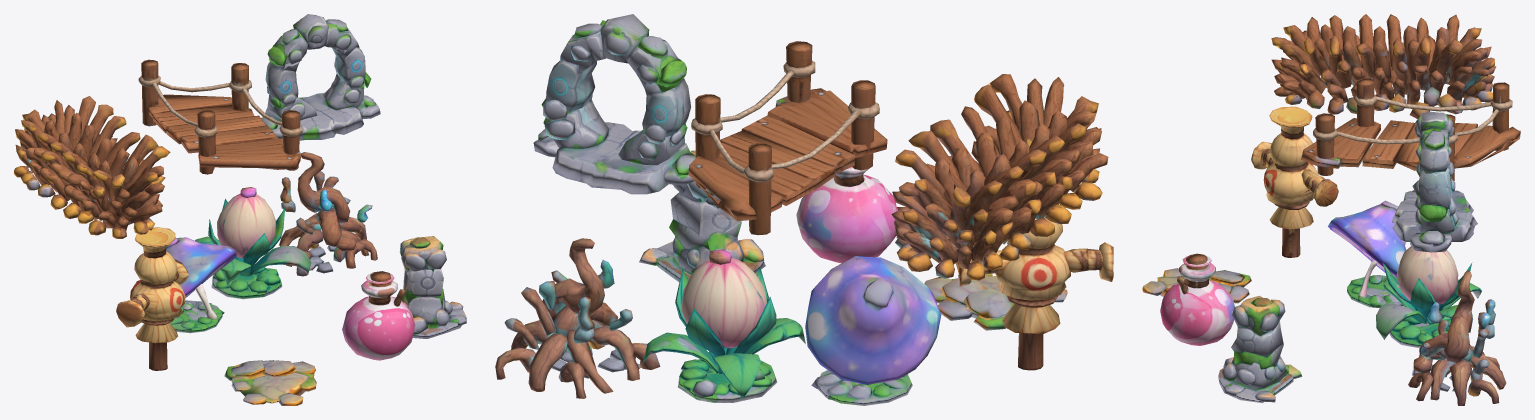
Rendered from magia.glb.
3 renders of one model, left to right at view 1: azimuth 30°, elevation 25°; view 2: azimuth 150°, elevation 25°; view 3: azimuth 270°, elevation 25°, orthographic. The views are drawn at different scales.
Parts seen in each view (by area): view 1: seto_seco, puente, portal_salida, flor_reactiva, raiz_reactiva, dummy, pocion, pilar, seta_reactiva, pasadero; view 2: seto_seco, puente, portal_salida, seta_reactiva, flor_reactiva, raiz_reactiva, dummy, pocion, pilar, pasadero; view 3: seto_seco, puente, portal_salida, raiz_reactiva, dummy, flor_reactiva, pilar, pocion, seta_reactiva, pasadero.
Boxes of the visible parts, x1=… form: seto_seco: x1=14, y1=96, x2=170, y2=238; puente: x1=138, y1=59, x2=302, y2=174; portal_salida: x1=261, y1=14, x2=380, y2=140; flor_reactiva: x1=195, y1=187, x2=311, y2=299; raiz_reactiva: x1=279, y1=152, x2=377, y2=276; dummy: x1=116, y1=227, x2=188, y2=370; pocion: x1=342, y1=271, x2=415, y2=360; pilar: x1=399, y1=236, x2=466, y2=338; seta_reactiva: x1=166, y1=237, x2=236, y2=333; pasadero: x1=224, y1=360, x2=316, y2=405; seto_seco: x1=891, y1=74, x2=1108, y2=280; puente: x1=688, y1=41, x2=887, y2=235; portal_salida: x1=533, y1=14, x2=695, y2=194; seta_reactiva: x1=805, y1=256, x2=941, y2=405; flor_reactiva: x1=642, y1=249, x2=805, y2=402; raiz_reactiva: x1=495, y1=238, x2=660, y2=398; dummy: x1=955, y1=217, x2=1113, y2=370; pocion: x1=796, y1=167, x2=897, y2=263; pilar: x1=639, y1=150, x2=765, y2=281; pasadero: x1=924, y1=273, x2=1067, y2=330; seto_seco: x1=1271, y1=14, x2=1496, y2=118; puente: x1=1301, y1=78, x2=1520, y2=180; portal_salida: x1=1392, y1=111, x2=1477, y2=252; raiz_reactiva: x1=1408, y1=270, x2=1506, y2=405; dummy: x1=1251, y1=106, x2=1338, y2=257; flor_reactiva: x1=1376, y1=246, x2=1481, y2=347; pilar: x1=1218, y1=295, x2=1302, y2=403; pocion: x1=1160, y1=253, x2=1234, y2=345; seta_reactiva: x1=1328, y1=200, x2=1406, y2=307; pasadero: x1=1142, y1=268, x2=1251, y2=303.
Size of the model in its own units: 1 by 0.6861 by 0.9053.
Materials: 1 (1 with a texture image).
